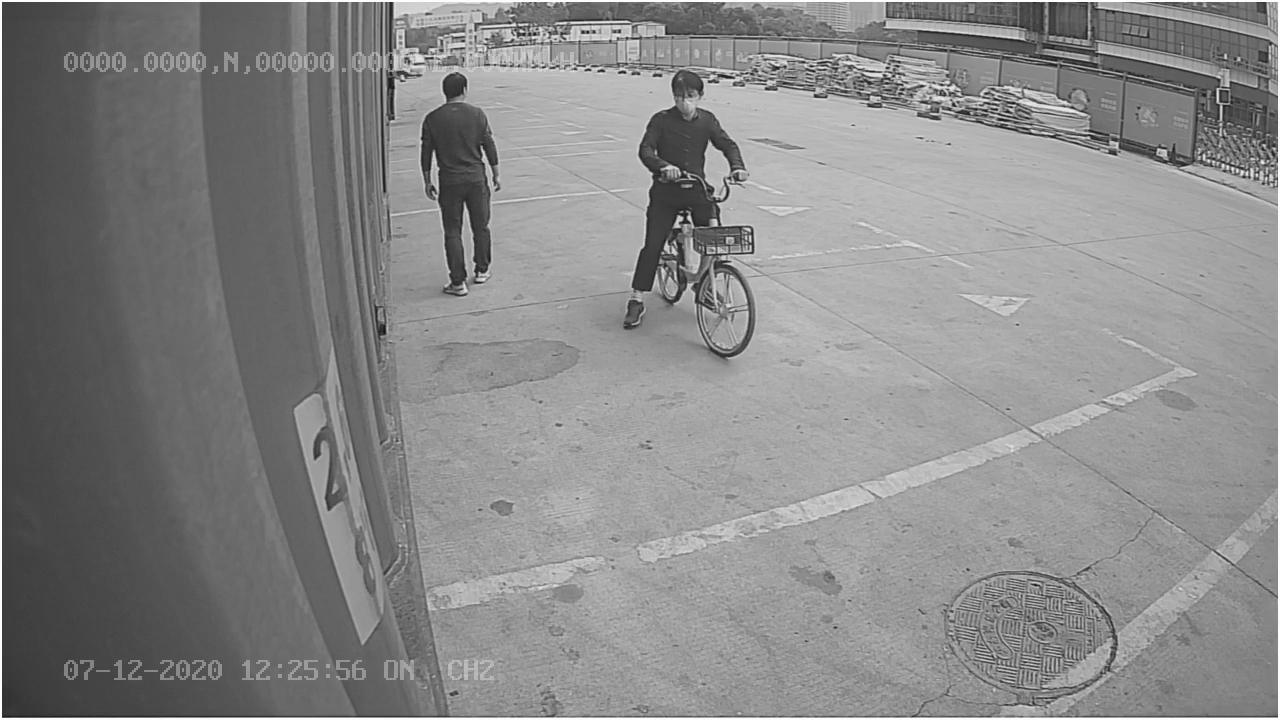person: (412, 69, 503, 299)
